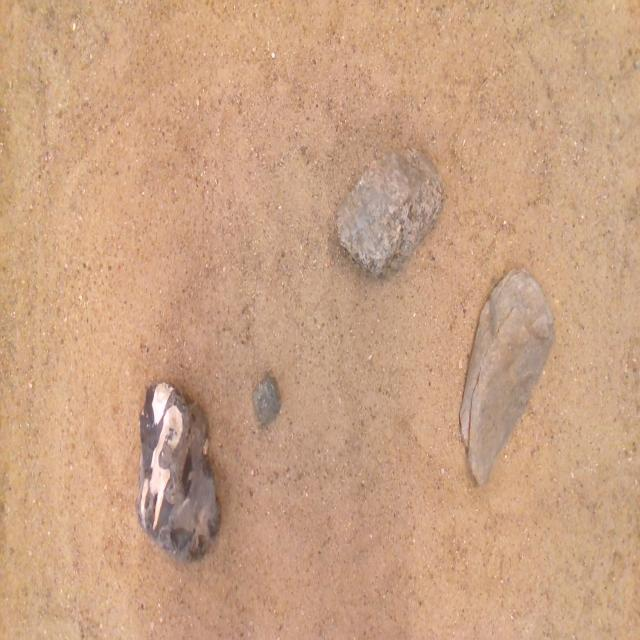rock: (460, 268, 554, 485), (137, 383, 220, 560), (337, 150, 444, 274), (252, 376, 281, 427)
